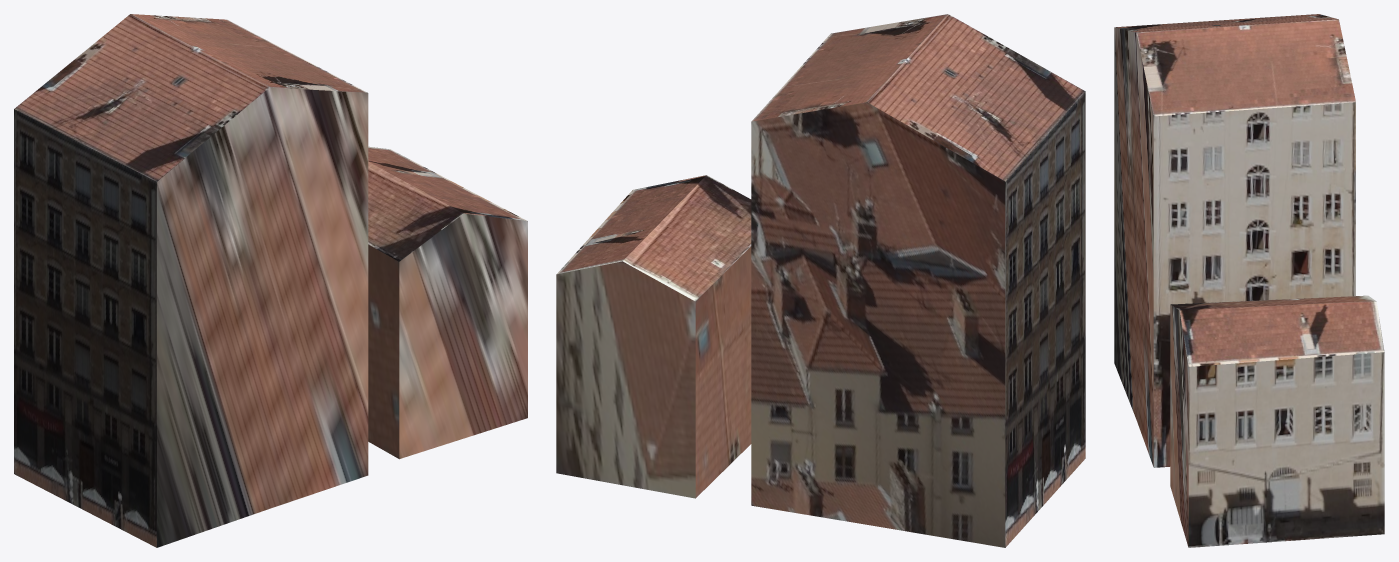
3 renders of one model, left to right at view 1: azimuth 30°, elevation 25°; view 2: azimuth 150°, elevation 25°; view 3: azimuth 270°, elevation 25°, orthographic. The views are drawn at different scales.
Parts seen in each view (by area): view 1: Z_UP; view 2: Z_UP; view 3: Z_UP.
Boxes of the visible parts, box(x1,y1,x2,y2) form: Z_UP: box(14, 14, 527, 547); Z_UP: box(556, 14, 1085, 547); Z_UP: box(1114, 14, 1384, 547).
Size of the model in its own units: 28.99 by 26.37 by 16.67.
Materials: 2 (1 with a texture image).
